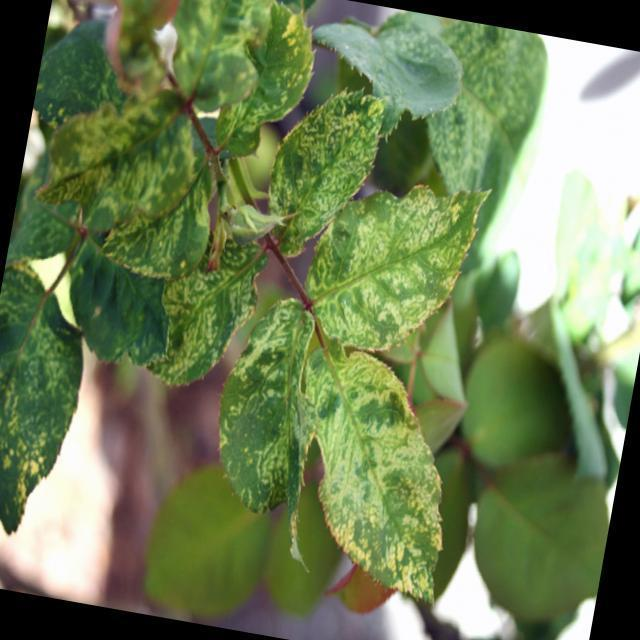Mosaic Virus: (276, 334, 478, 610), (314, 160, 496, 348), (36, 81, 206, 242), (208, 291, 312, 510), (264, 72, 384, 261), (203, 0, 317, 159), (0, 309, 78, 511), (154, 246, 254, 394), (106, 166, 219, 286)
